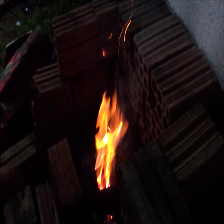fire_h: (93, 89, 128, 190)
fire_l: (118, 12, 133, 42), (102, 48, 106, 56), (108, 214, 112, 219), (109, 32, 112, 37)
